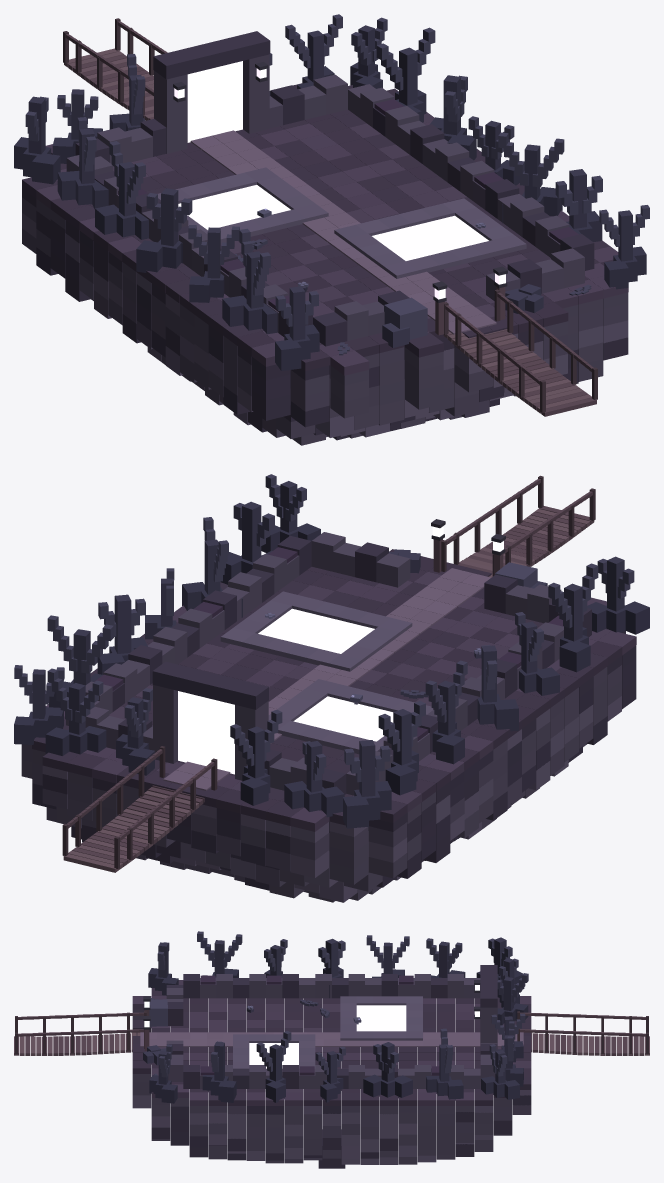
The model's file is room_pools_polluted.glb.
The picture shows the model from 3 angles, top to bottom: view 1: azimuth 30°, elevation 25°; view 2: azimuth 150°, elevation 25°; view 3: azimuth 270°, elevation 25°; orthographic projection. The views are drawn at different scales.
Visible parts, largest first — view 1: room_pools_blocks, tree2_(0, 0).001, tree0_(0, 0).002, tree2_(0, 0).002, tree0_(0, 0).001, tree1_(0, 0).001, tree5_(0, 0).001, tree0_(0, 0).003, tree5_(0, 0).002, tree4_(0, 0).002, tree4_(0, 0).001, tree3_(0, 0).001 (+8 smaller); view 2: room_pools_blocks, tree5_(0, 0).003, tree0_(0, 0).003, tree2_(0, 0).001, tree0_(0, 0).001, tree4_(0, 0).002, tree2_(0, 0).003, tree2_(0, 0).002, tree1_(0, 0).003, tree0_(0, 0).004, tree5_(0, 0).002, tree3_(0, 0).002 (+8 smaller); view 3: room_pools_blocks, tree3_(0, 0).002, tree5_(0, 0).001, tree5_(0, 0).002, tree3_(0, 0).001, tree1_(0, 0).003, tree2_(0, 0).003, tree2_(0, 0).001, tree1_(0, 0).002, tree1_(0, 0).001, tree2_(0, 0).002, tree4_(0, 0).002 (+8 smaller).
Part boxes in pixels (x1,y1,x2,y2): room_pools_blocks: (22,18,628,445); tree2_(0, 0).001: (222,228,277,334); tree0_(0, 0).002: (136,188,192,272); tree2_(0, 0).002: (95,141,148,239); tree0_(0, 0).001: (275,286,319,370); tree1_(0, 0).001: (599,205,649,289); tree5_(0, 0).001: (498,132,564,223); tree0_(0, 0).003: (14,96,60,184); tree5_(0, 0).002: (376,27,435,122); tree4_(0, 0).002: (57,117,108,209); tree4_(0, 0).001: (188,225,239,302); tree3_(0, 0).001: (555,169,602,241); room_pools_blocks: (21,475,636,902); tree5_(0, 0).003: (45,668,106,755); tree0_(0, 0).003: (343,740,391,828); tree2_(0, 0).001: (548,563,598,672); tree0_(0, 0).001: (587,556,649,634); tree4_(0, 0).002: (378,701,425,795); tree2_(0, 0).003: (230,709,282,805); tree2_(0, 0).002: (425,660,467,764); tree1_(0, 0).003: (14,665,64,744); tree0_(0, 0).004: (284,741,344,817); tree5_(0, 0).002: (47,615,113,711); tree3_(0, 0).002: (97,594,147,674); room_pools_blocks: (14,965,649,1168); tree3_(0, 0).002: (363,1042,412,1097); tree5_(0, 0).001: (256,1031,291,1102); tree5_(0, 0).002: (426,1028,463,1100); tree3_(0, 0).001: (202,1041,236,1102); tree1_(0, 0).003: (481,1044,519,1099); tree2_(0, 0).003: (497,973,528,1025); tree2_(0, 0).001: (197,931,242,977); tree1_(0, 0).002: (315,1046,345,1102); tree1_(0, 0).001: (149,1044,177,1103); tree2_(0, 0).002: (366,935,409,977); tree4_(0, 0).002: (426,938,465,977).
Bounding box in the file's own units: 17.77 × 12.1 × 38.5.
